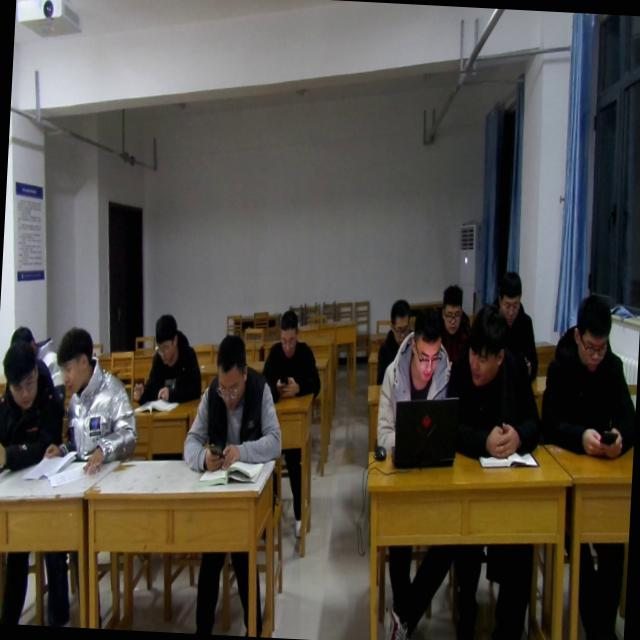down: (566, 288, 618, 372), (210, 329, 253, 414), (0, 336, 43, 414), (408, 301, 448, 383), (492, 270, 527, 332), (148, 309, 182, 371), (270, 306, 305, 360), (383, 296, 418, 349), (434, 280, 466, 334), (6, 321, 40, 359)
sit: (538, 289, 640, 462), (441, 302, 549, 464), (44, 326, 144, 478), (184, 330, 288, 475), (374, 304, 456, 454), (0, 323, 62, 469), (132, 307, 206, 406), (487, 267, 544, 379), (262, 306, 326, 398), (428, 284, 476, 378), (373, 296, 413, 386)
